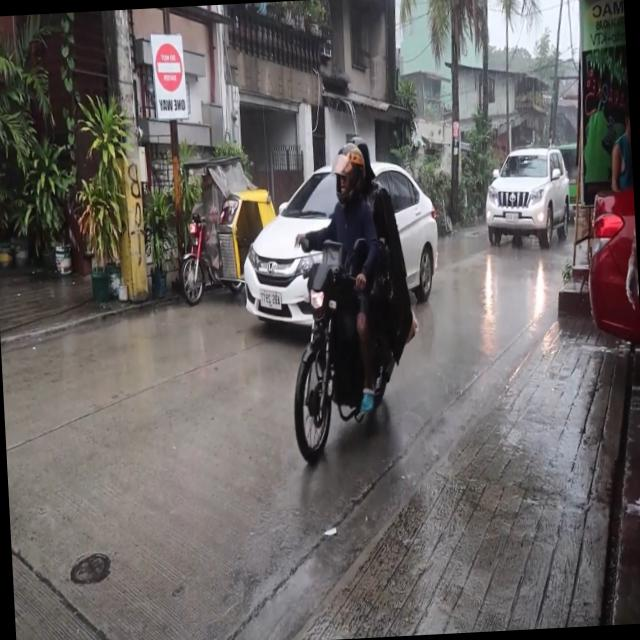full: (330, 139, 370, 207)
